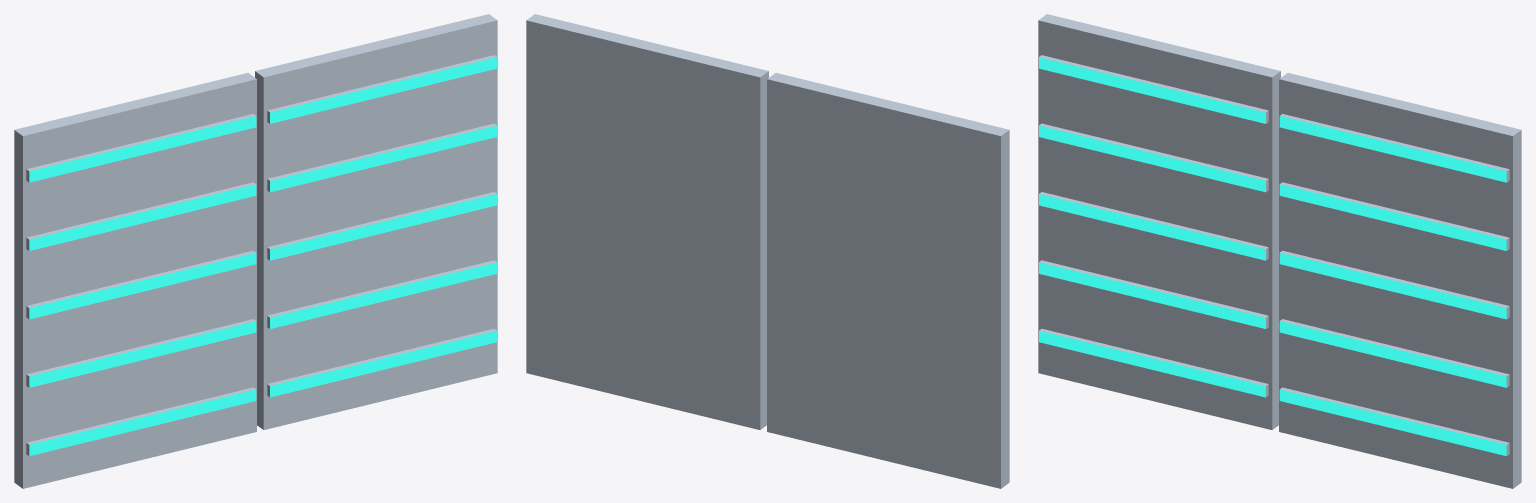
Rendered from props.glb.
3 views of the same model, side by side, from view 1: azimuth 30°, elevation 25°; view 2: azimuth 150°, elevation 25°; view 3: azimuth 330°, elevation 25° (orthographic).
Visible parts, largest first — view 1: CITY_R0_00_Gate_L, CITY_R0_00_Gate_R; view 2: CITY_R0_00_Gate_L, CITY_R0_00_Gate_R; view 3: CITY_R0_00_Gate_R, CITY_R0_00_Gate_L.
Boxes of the visible parts, box(x1,y1,x2,y2) form: CITY_R0_00_Gate_L: box(14, 73, 256, 488); CITY_R0_00_Gate_R: box(255, 14, 497, 429); CITY_R0_00_Gate_L: box(767, 73, 1009, 488); CITY_R0_00_Gate_R: box(526, 14, 768, 429); CITY_R0_00_Gate_R: box(1279, 73, 1521, 488); CITY_R0_00_Gate_L: box(1038, 14, 1280, 429).
Bounding box in the file's own units: 6.9 × 4.9 × 0.29.
